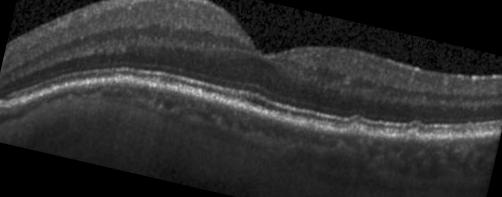retinal_drusen: (346, 120, 366, 134), (406, 125, 424, 139)
